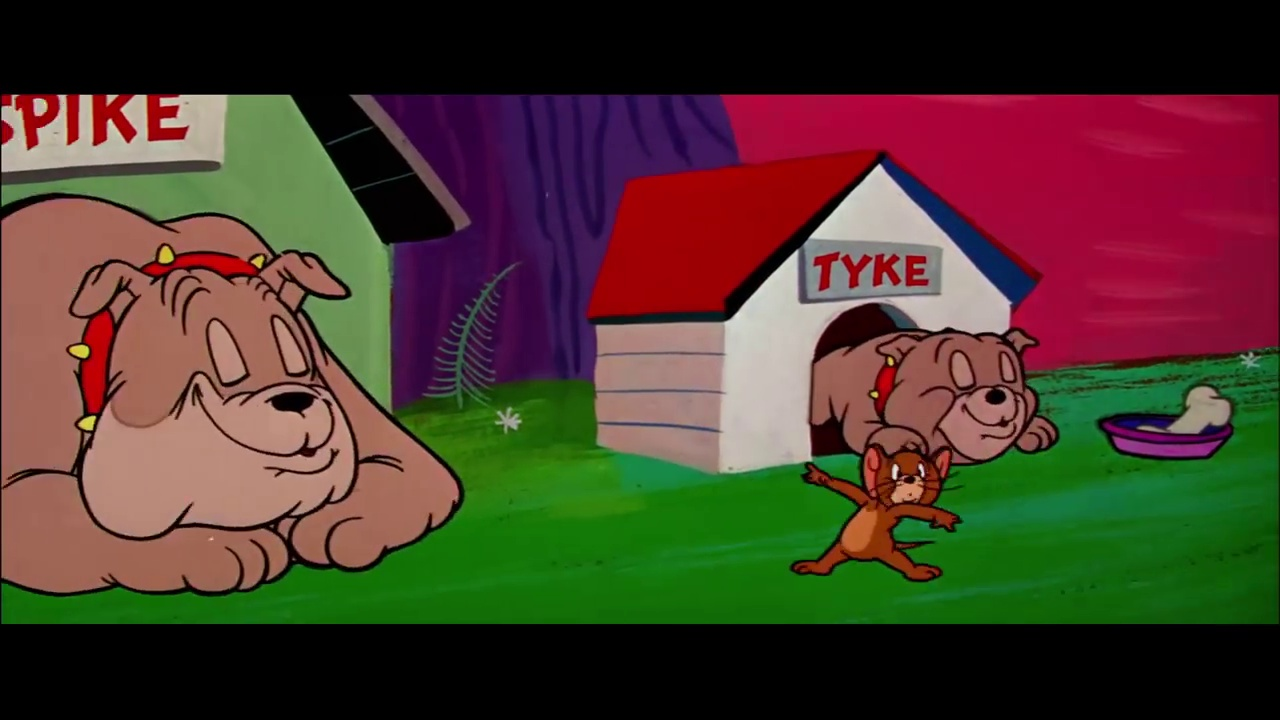spike: (63, 240, 370, 543)
